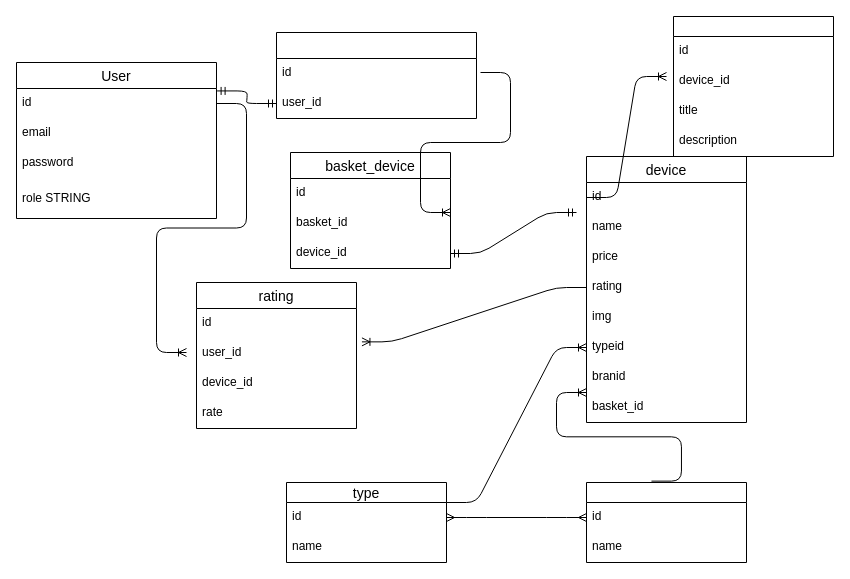
Image size: 850x579. Some labels were removed from this diagram. The box of each missing label's shape, as (x1, y1, x2, y2) in pixels:
basket: (276, 32, 476, 118)
brand: (586, 482, 746, 562)
device_info: (672, 16, 834, 156)
